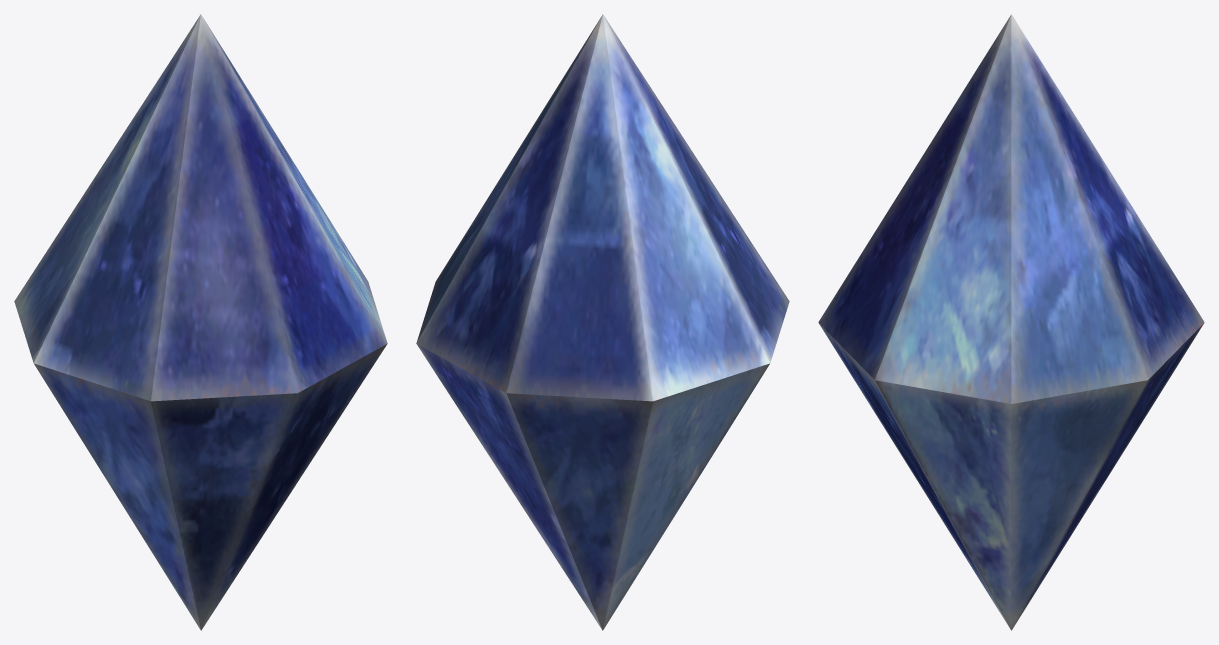
3 views of the same model, side by side, from view 1: azimuth 30°, elevation 25°; view 2: azimuth 150°, elevation 25°; view 3: azimuth 270°, elevation 25° (orthographic).
Visible parts, largest first — view 1: ct_md15-col; view 2: ct_md15-col; view 3: ct_md15-col.
Part boxes in pixels (x1=…): ct_md15-col: x1=14, y1=14, x2=387, y2=630; ct_md15-col: x1=416, y1=14, x2=789, y2=630; ct_md15-col: x1=818, y1=14, x2=1204, y2=630.
Bounding box in the file's own units: 0.1417 × 0.2496 × 0.1417.
Materials: 1 (1 with a texture image).
